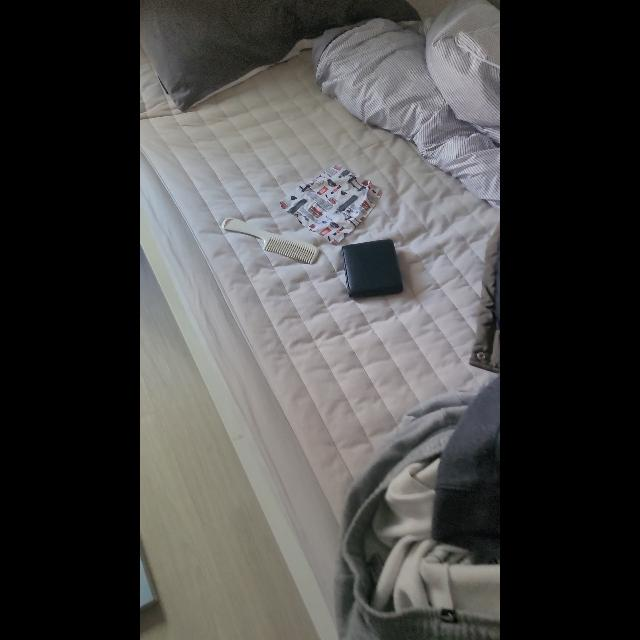COMB: (222, 218, 318, 264)
Glasses cleaning cloth: (280, 163, 382, 244)
WALLET: (341, 238, 403, 300)
